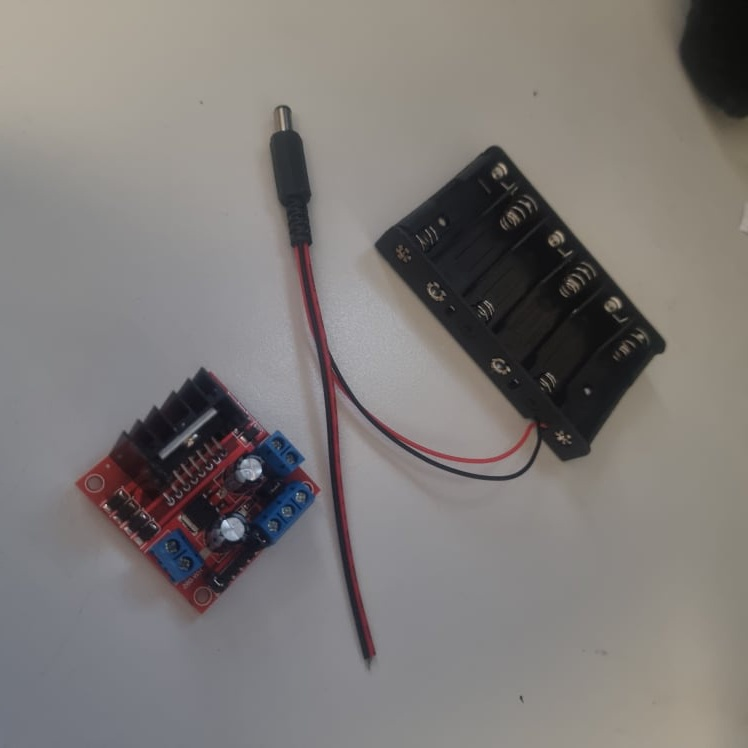BATTERY BOX: (374, 147, 667, 464)
MOTOR: (73, 368, 325, 616)
